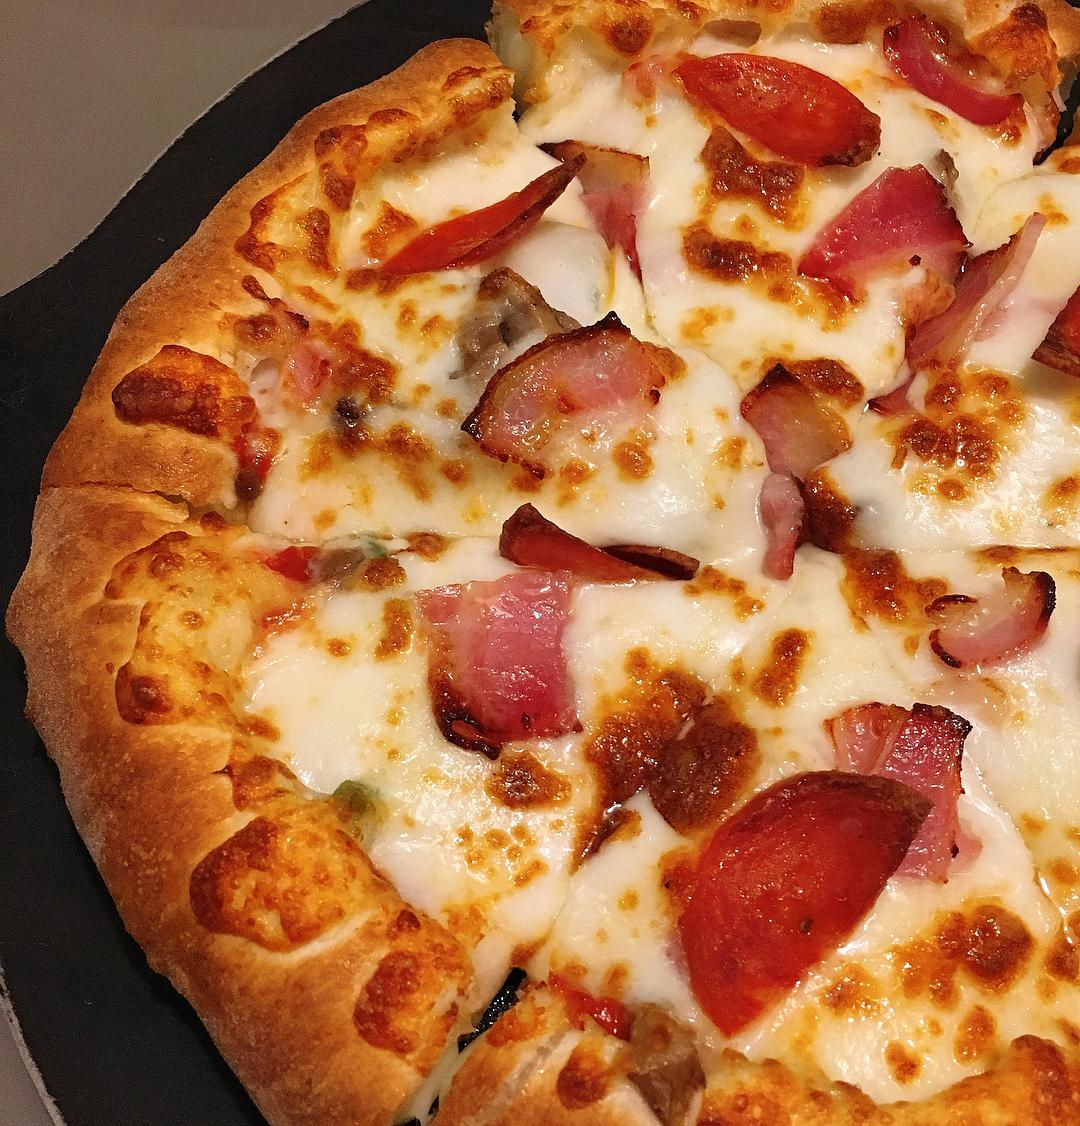Ham: (673, 776, 923, 1054), (818, 676, 966, 884), (369, 160, 571, 294), (426, 578, 586, 746), (484, 324, 652, 483), (686, 46, 880, 178), (793, 169, 955, 302), (884, 21, 1025, 133), (919, 556, 1050, 667), (744, 354, 850, 481)
Pizza: (0, 0, 1080, 1126)
